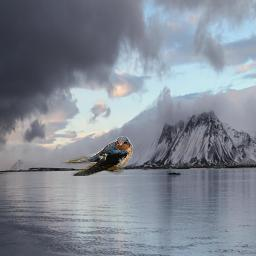Swallow: (60, 136, 133, 176)
